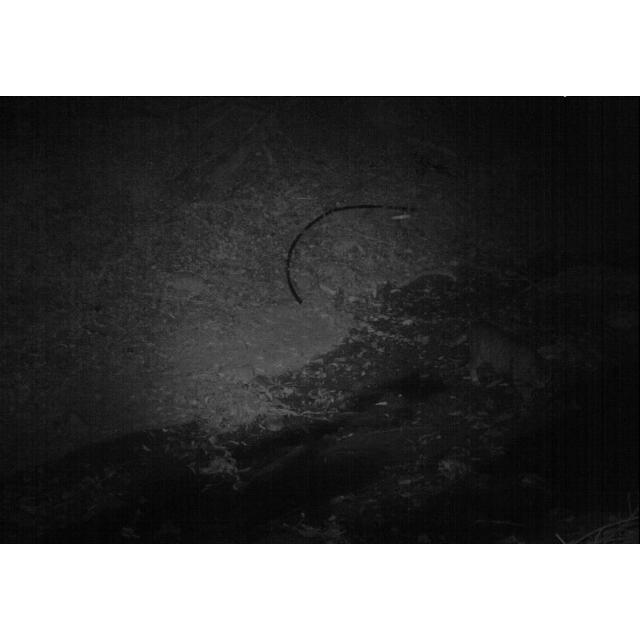animals: (434, 318, 538, 386)
